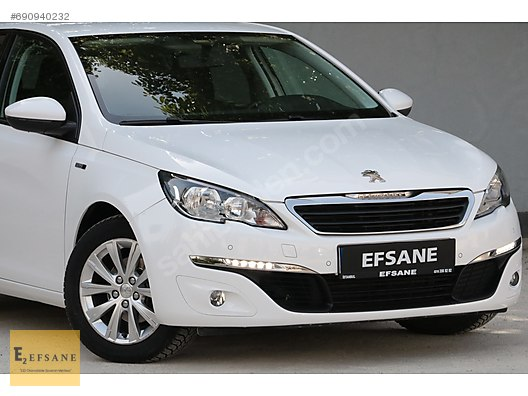peugeot: (16, 45, 522, 364)
